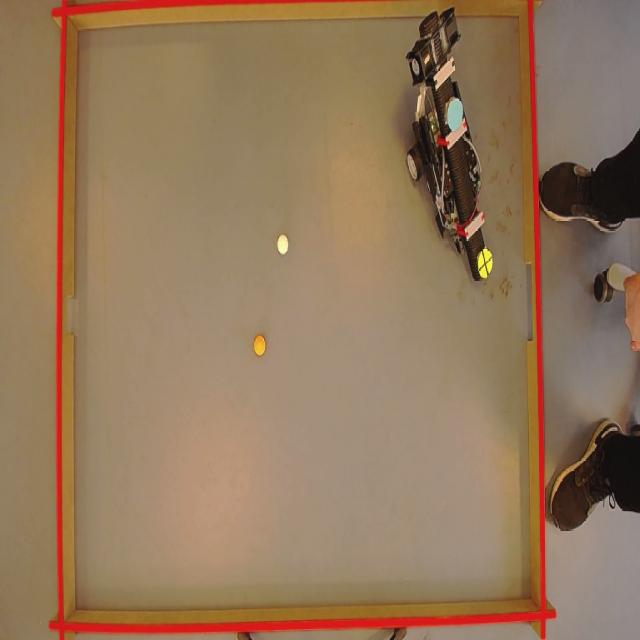orange: (254, 333, 266, 358)
robot: (404, 0, 494, 289)
robot-front: (477, 248, 494, 280)
robot-rear: (446, 97, 464, 132)
white: (274, 234, 288, 254)
